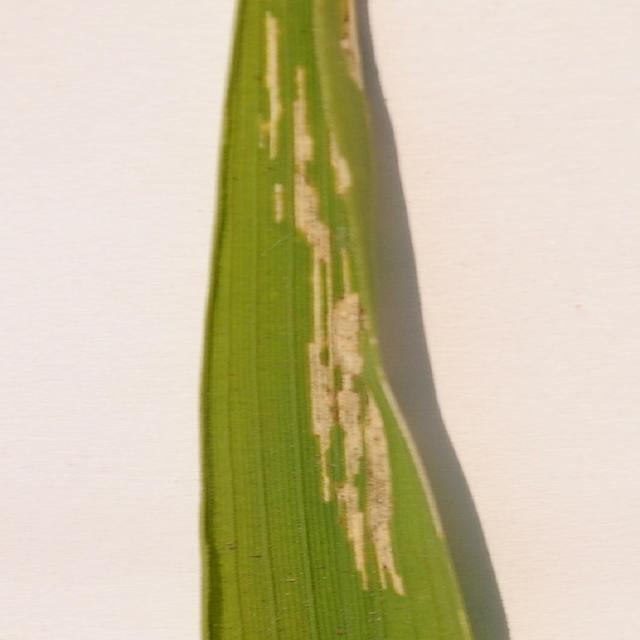Bacterial_Leaf_Blight: (247, 0, 455, 618)
